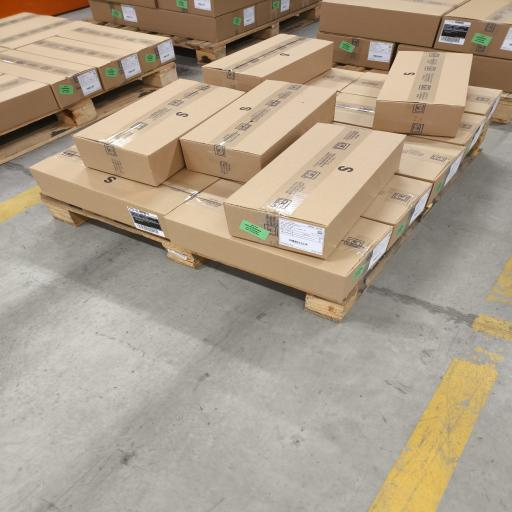pallet: (0, 62, 177, 163), (305, 202, 436, 322), (84, 2, 320, 65), (41, 194, 210, 268), (41, 194, 206, 268), (333, 63, 388, 74), (493, 93, 511, 124)
